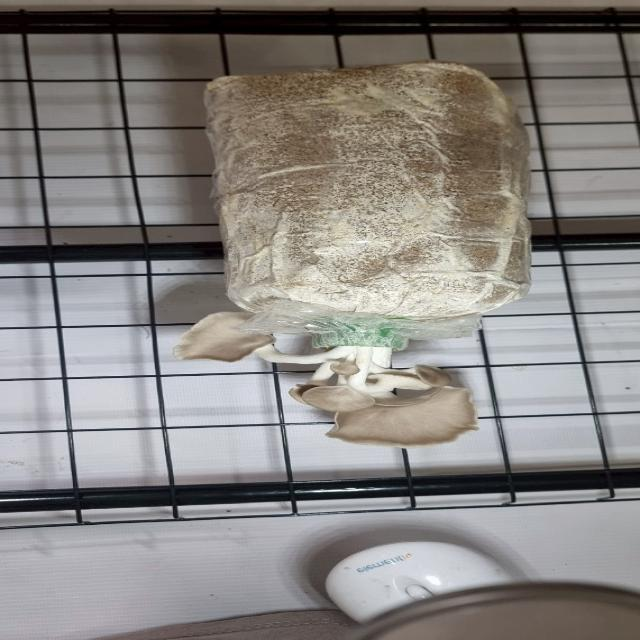normal: (166, 306, 496, 445)
